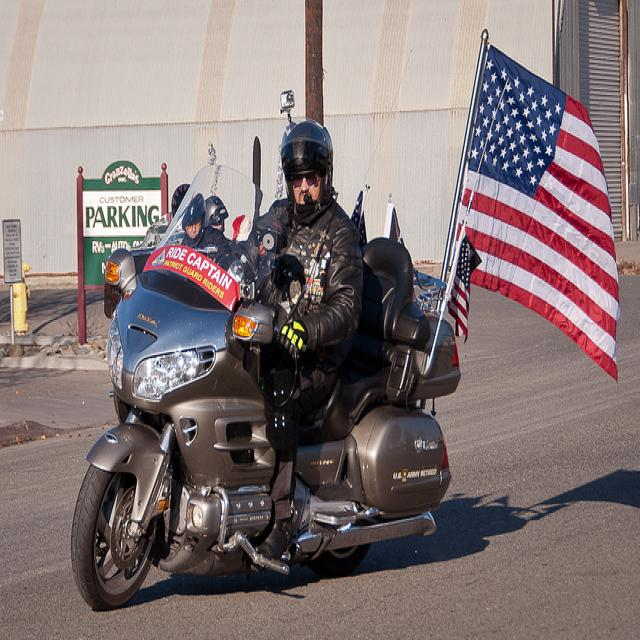motor: (70, 159, 461, 609)
